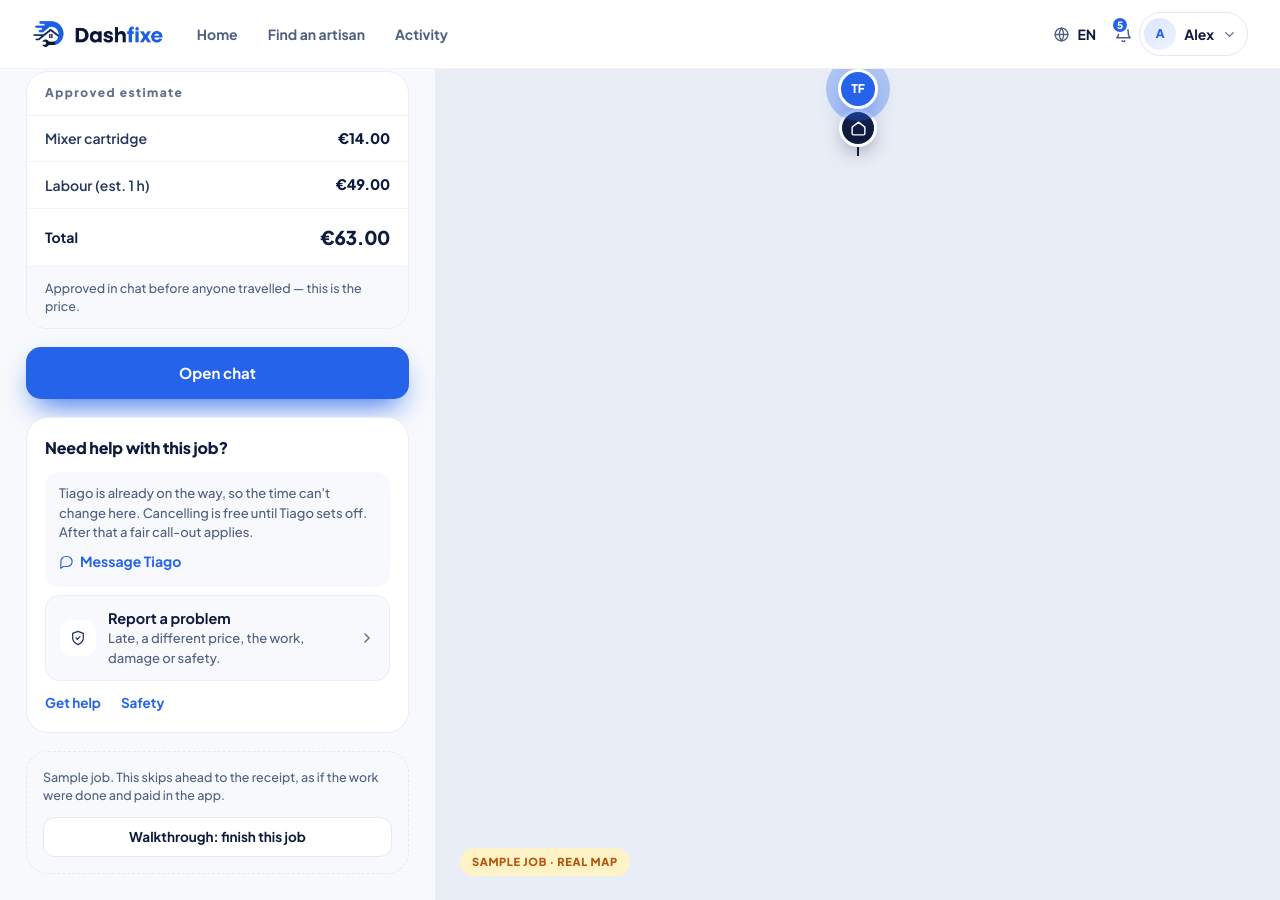
Scenario: /job/:id › finishes a job in the walkthrough and remembers the rating
(page scrolled)
Click the button "Walkthrough: finish this job" at (218, 837), box [43,817,392,857]
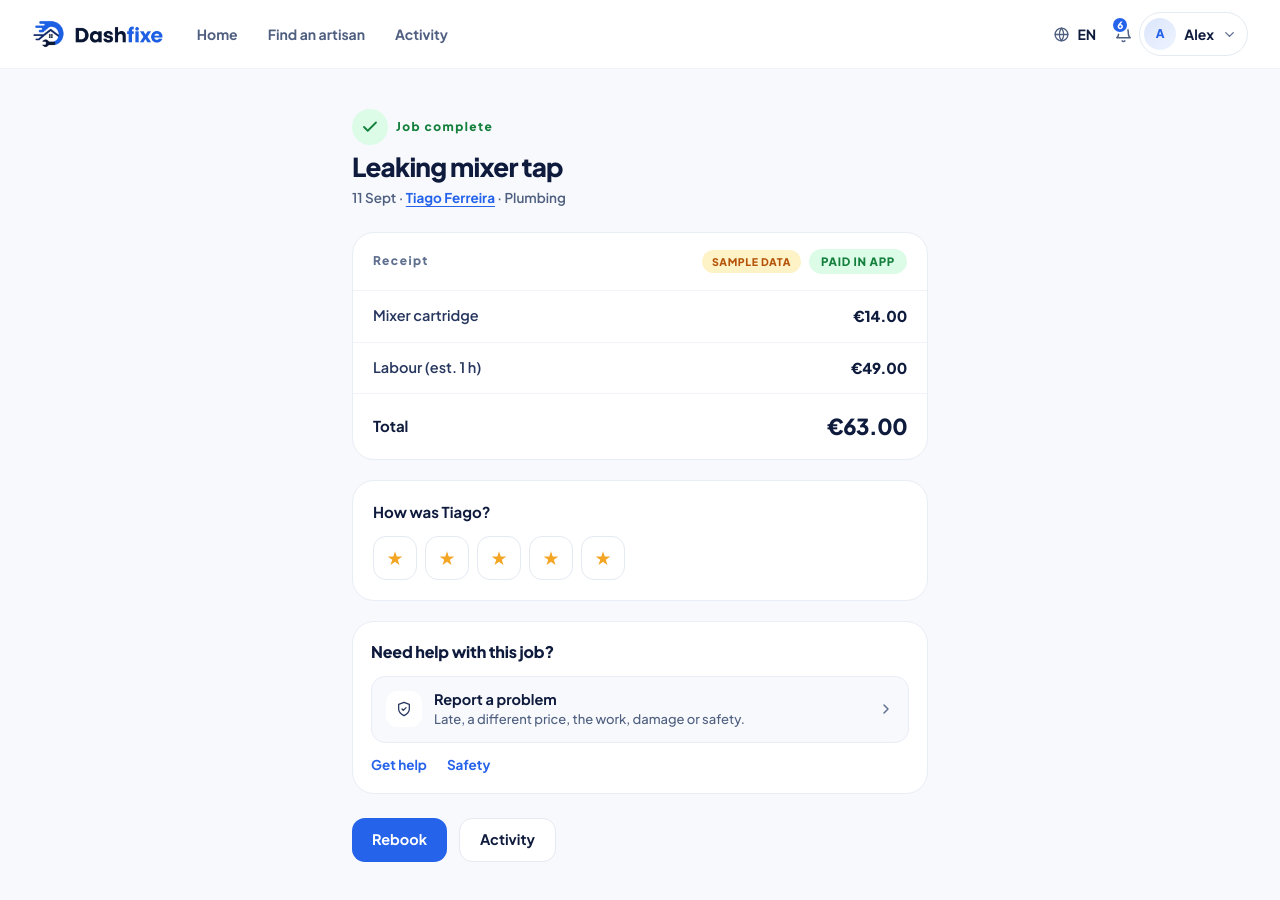
Expected: the text "Receipt" is shown, [373,254,429,269]
Now the text "Paid in app" is shown, box [809,249,907,274]
Click the button named "Rate 4 stars" at (551, 558), box [529,536,573,580]
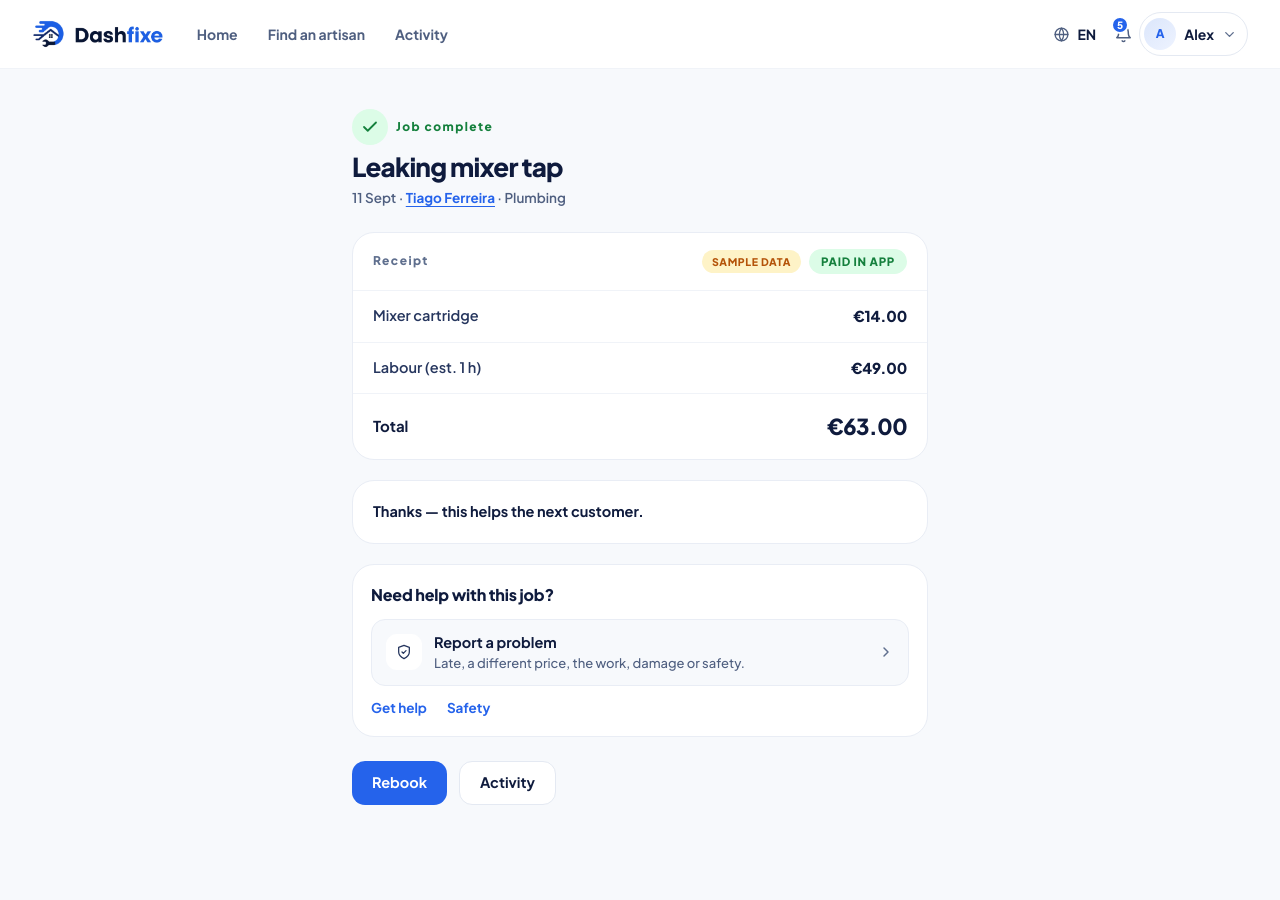
Now the text "Thanks — this helps the next customer." is shown, box [373,502,644,520]
